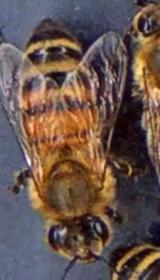varroa_mite: (20, 116, 42, 140)
